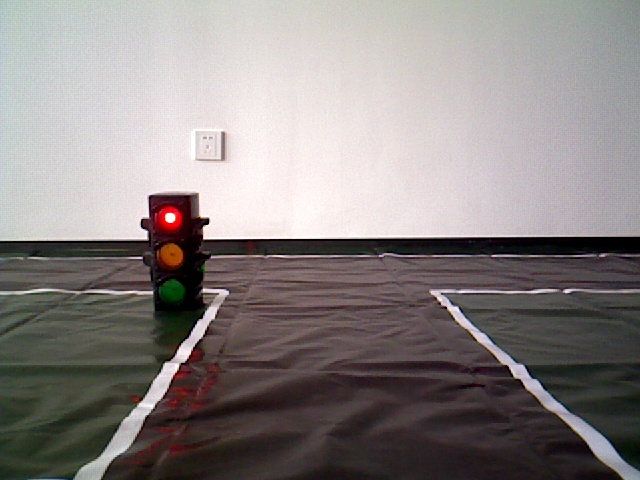red: (146, 197, 195, 315)
